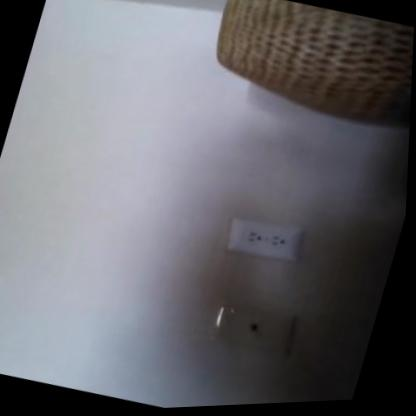OUTLET: (222, 214, 301, 266)
